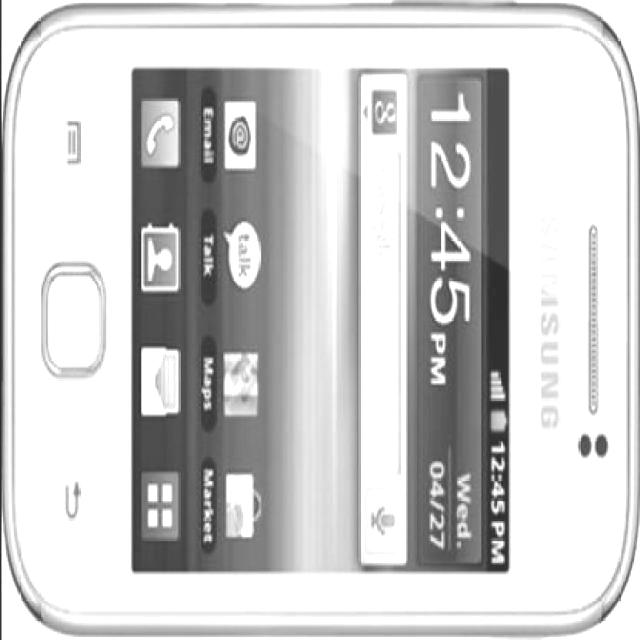fake: (12, 2, 638, 618)
